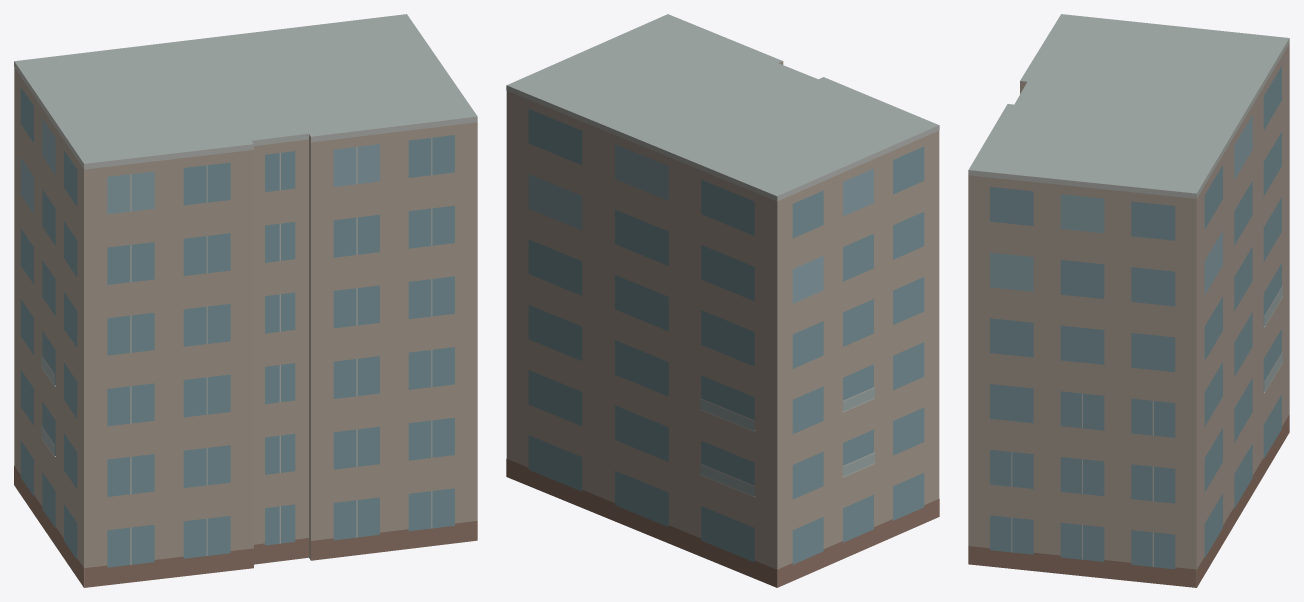
The model's file is survey-upis-32702180.glb.
3 renders of one model, left to right at view 1: azimuth 30°, elevation 25°; view 2: azimuth 150°, elevation 25°; view 3: azimuth 270°, elevation 25°, orthographic. The views are drawn at different scales.
Parts seen in each view (by area): view 1: survey-upis-32702180.tmp; view 2: survey-upis-32702180.tmp; view 3: survey-upis-32702180.tmp.
Part boxes in pixels (box(x1,y1,x2,y2)): survey-upis-32702180.tmp: box(14, 14, 477, 587); survey-upis-32702180.tmp: box(506, 14, 939, 587); survey-upis-32702180.tmp: box(968, 14, 1289, 587).
Bounding box in the file's own units: 17.89 × 18.3 × 13.52.
